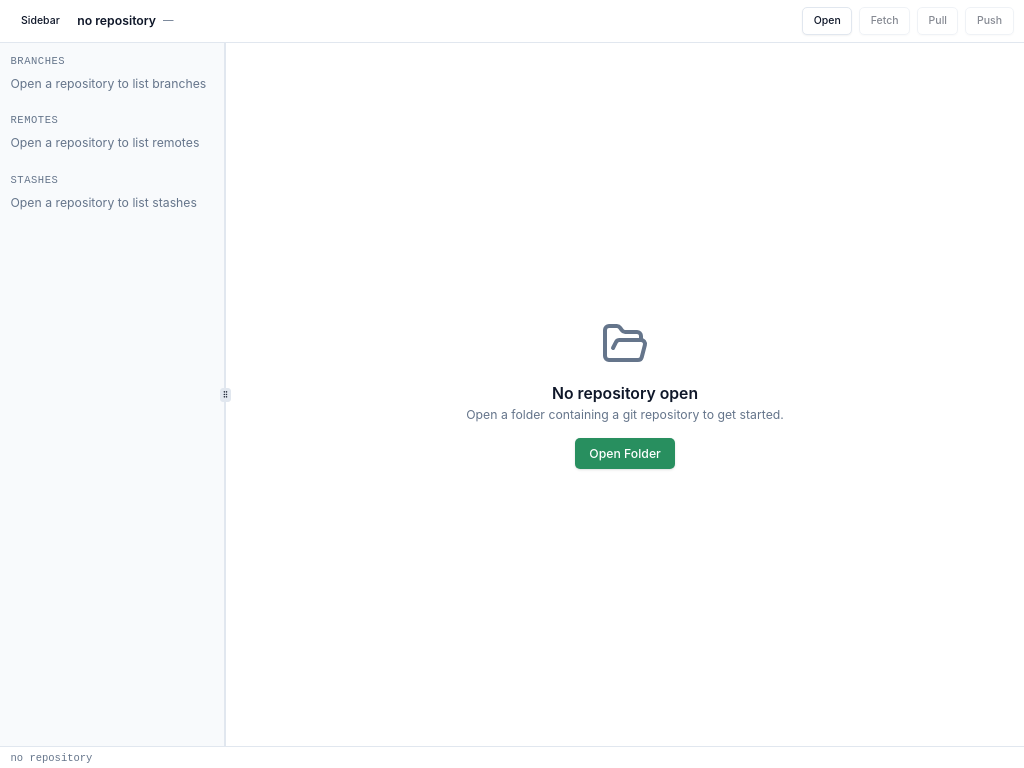
Test: App shell › reopens a recent repository from the header menu and refreshes the list
Press the mouse on the button "Open": [827, 21] box [802, 7, 852, 35]
Click the button "Open": [827, 21] box [802, 7, 852, 35]
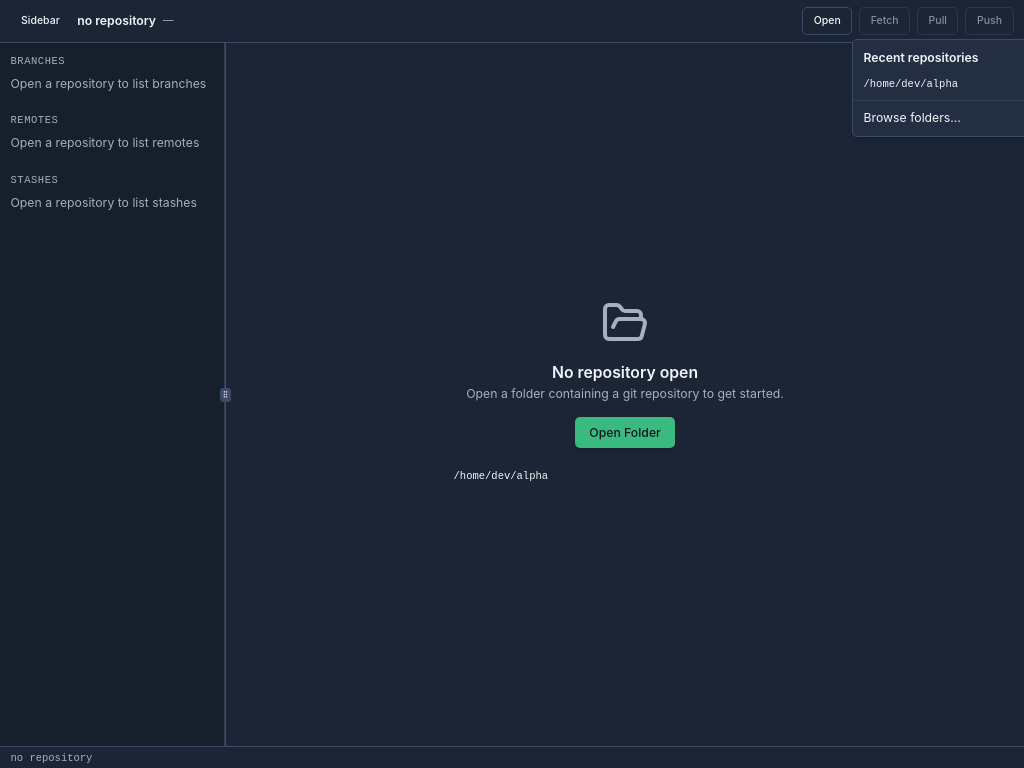
Click the menu item "/home/dev/alpha": [911, 84] box [864, 78, 958, 90]
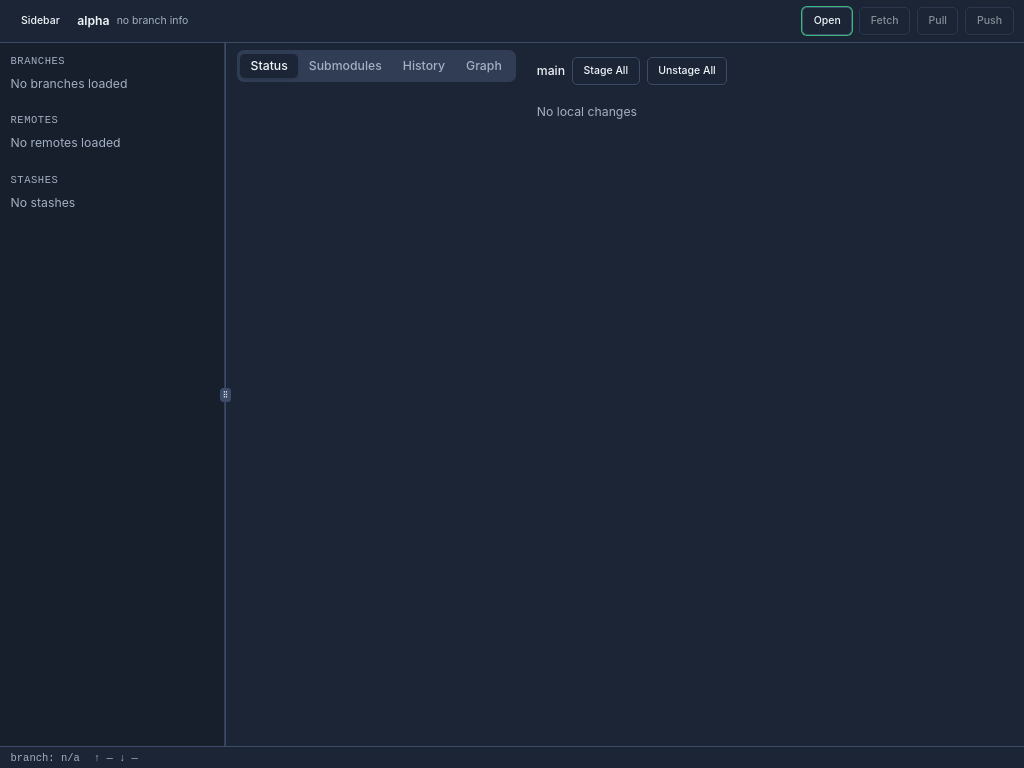
Now the element with test id "staging-view" is shown, box [537, 57, 727, 118]
